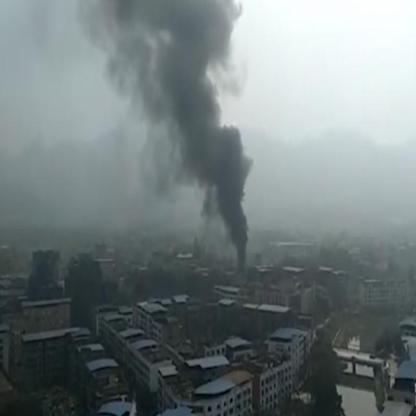smoke: (78, 1, 246, 86), (121, 86, 248, 164), (208, 178, 250, 268)
